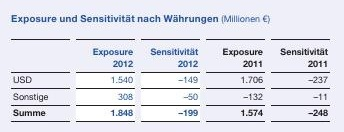table: (0, 0, 344, 132)
